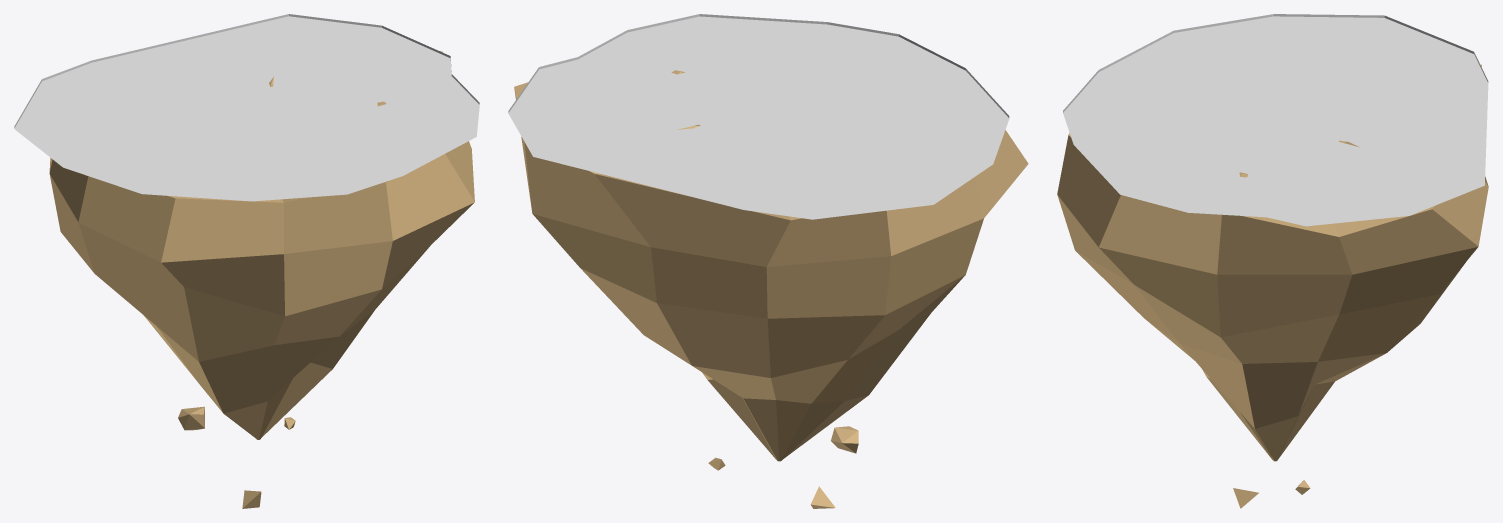
The model's file is island2.glb.
3 renders of one model, left to right at view 1: azimuth 30°, elevation 25°; view 2: azimuth 150°, elevation 25°; view 3: azimuth 270°, elevation 25°, orthographic. The views are drawn at different scales.
Parts seen in each view (by area): view 1: Vert.003, Island; view 2: Vert.003, Island; view 3: Vert.003, Island.
Boxes of the visible parts, x1,y1,x2,y2 form: Vert.003: (14, 14, 479, 201); Island: (49, 51, 474, 508); Vert.003: (508, 14, 1009, 219); Island: (514, 70, 1028, 508); Vert.003: (1063, 14, 1488, 226); Island: (1057, 64, 1488, 508).
Size of the model in its own units: 5.01 by 4.38 by 4.27.
